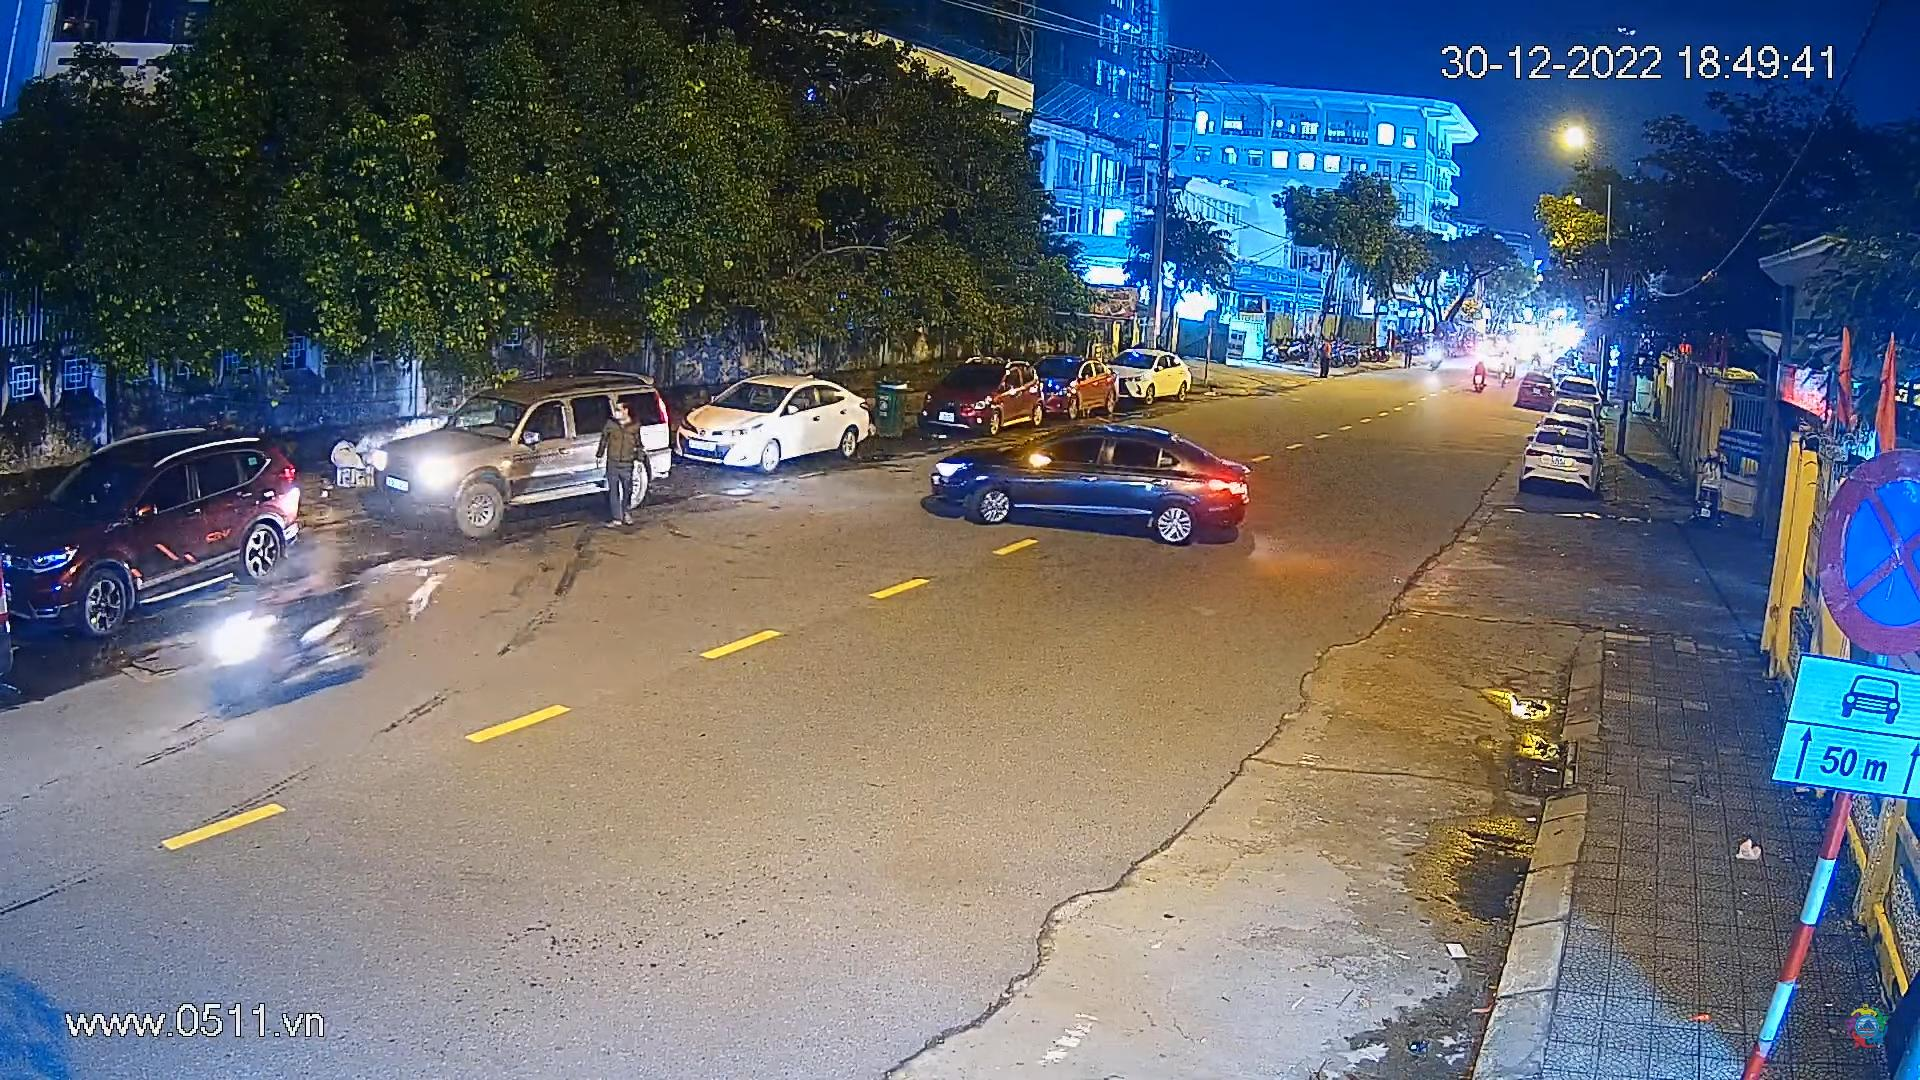car: (0, 422, 309, 640), (401, 371, 686, 538), (916, 425, 1258, 555), (694, 375, 876, 468), (906, 355, 1046, 440), (1035, 349, 1126, 427), (1520, 418, 1600, 505), (1105, 349, 1199, 410), (1551, 375, 1604, 414), (1515, 368, 1557, 415)
motorcycle: (196, 513, 371, 712)
